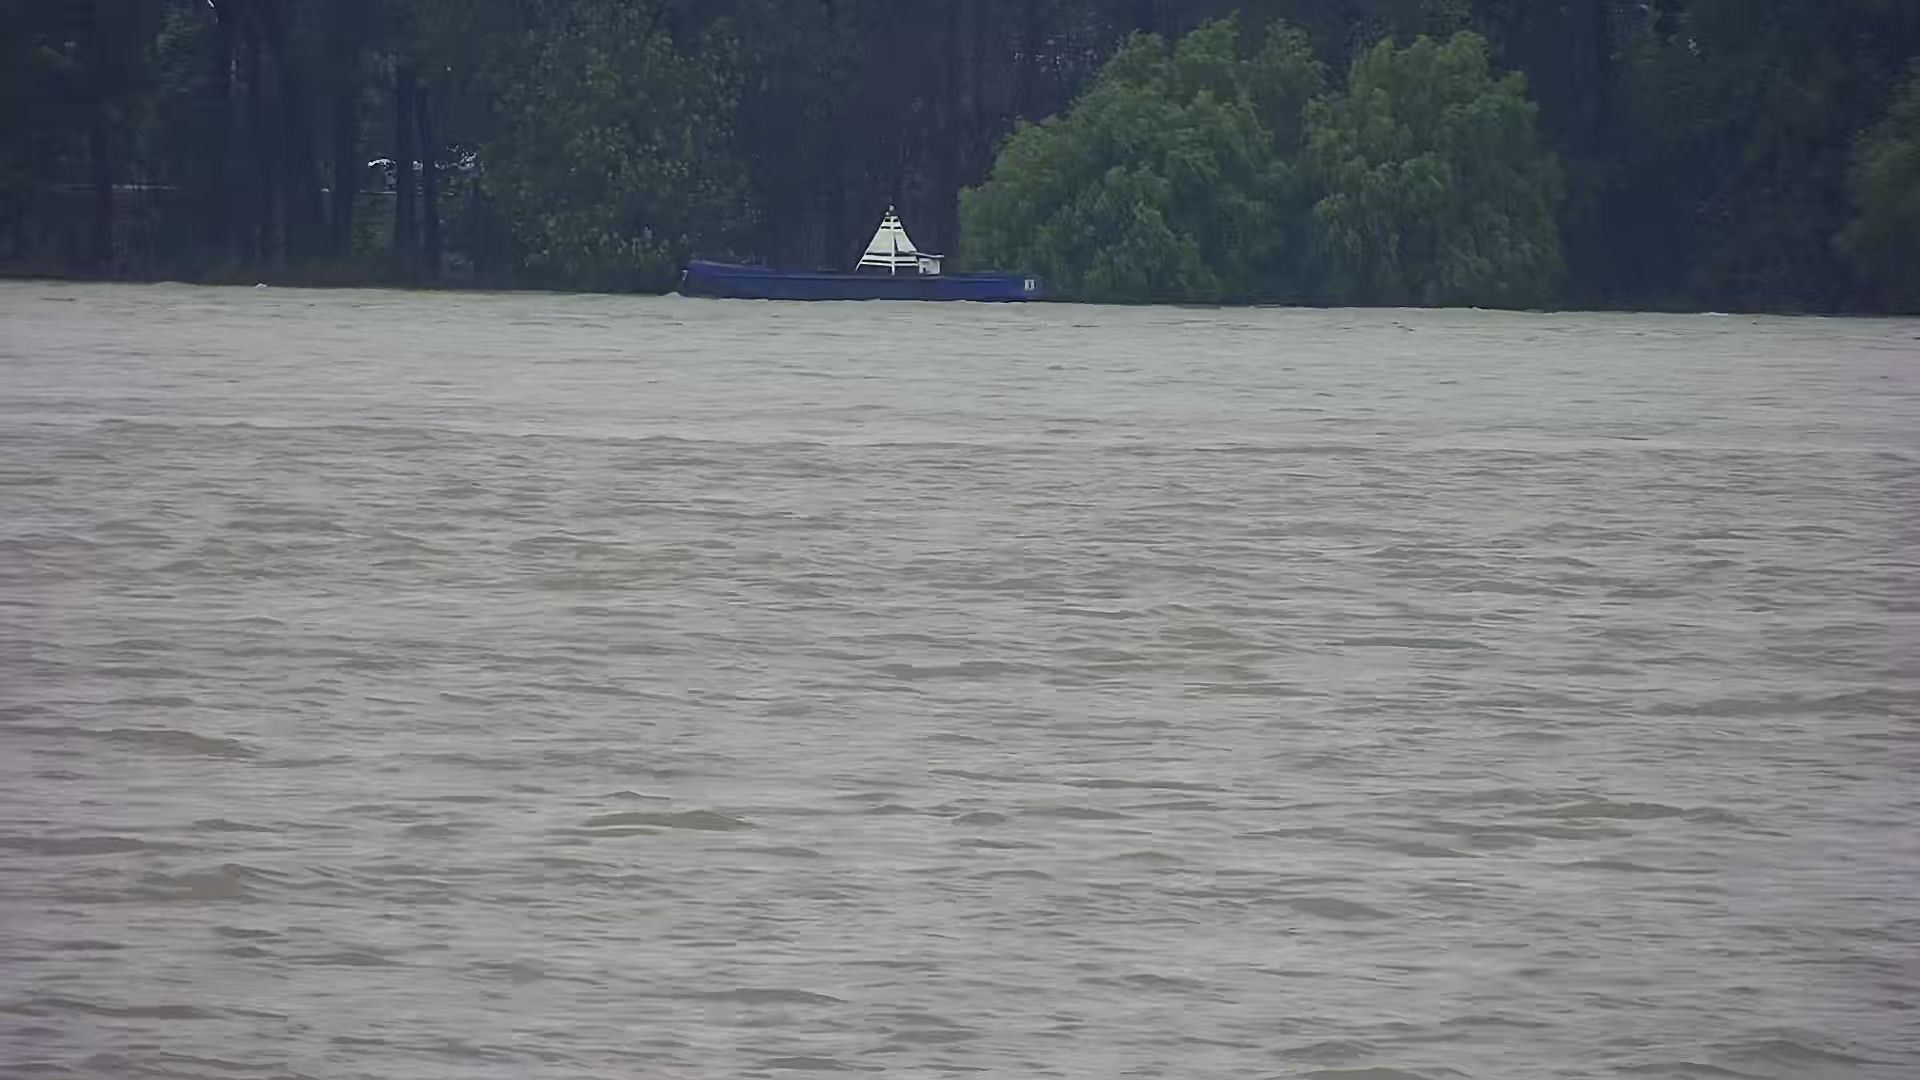boat: (653, 194, 1048, 313)
